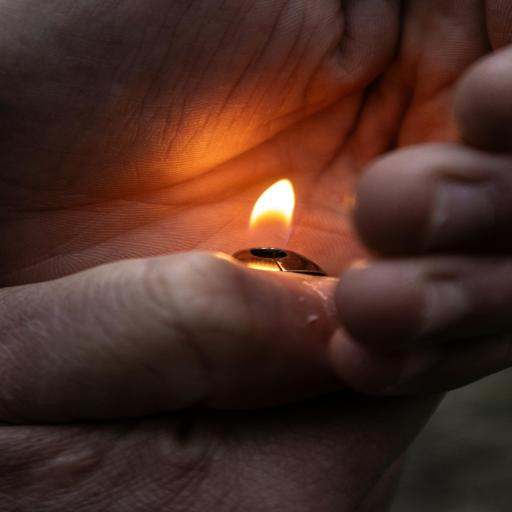lighter: (190, 156, 338, 324)
